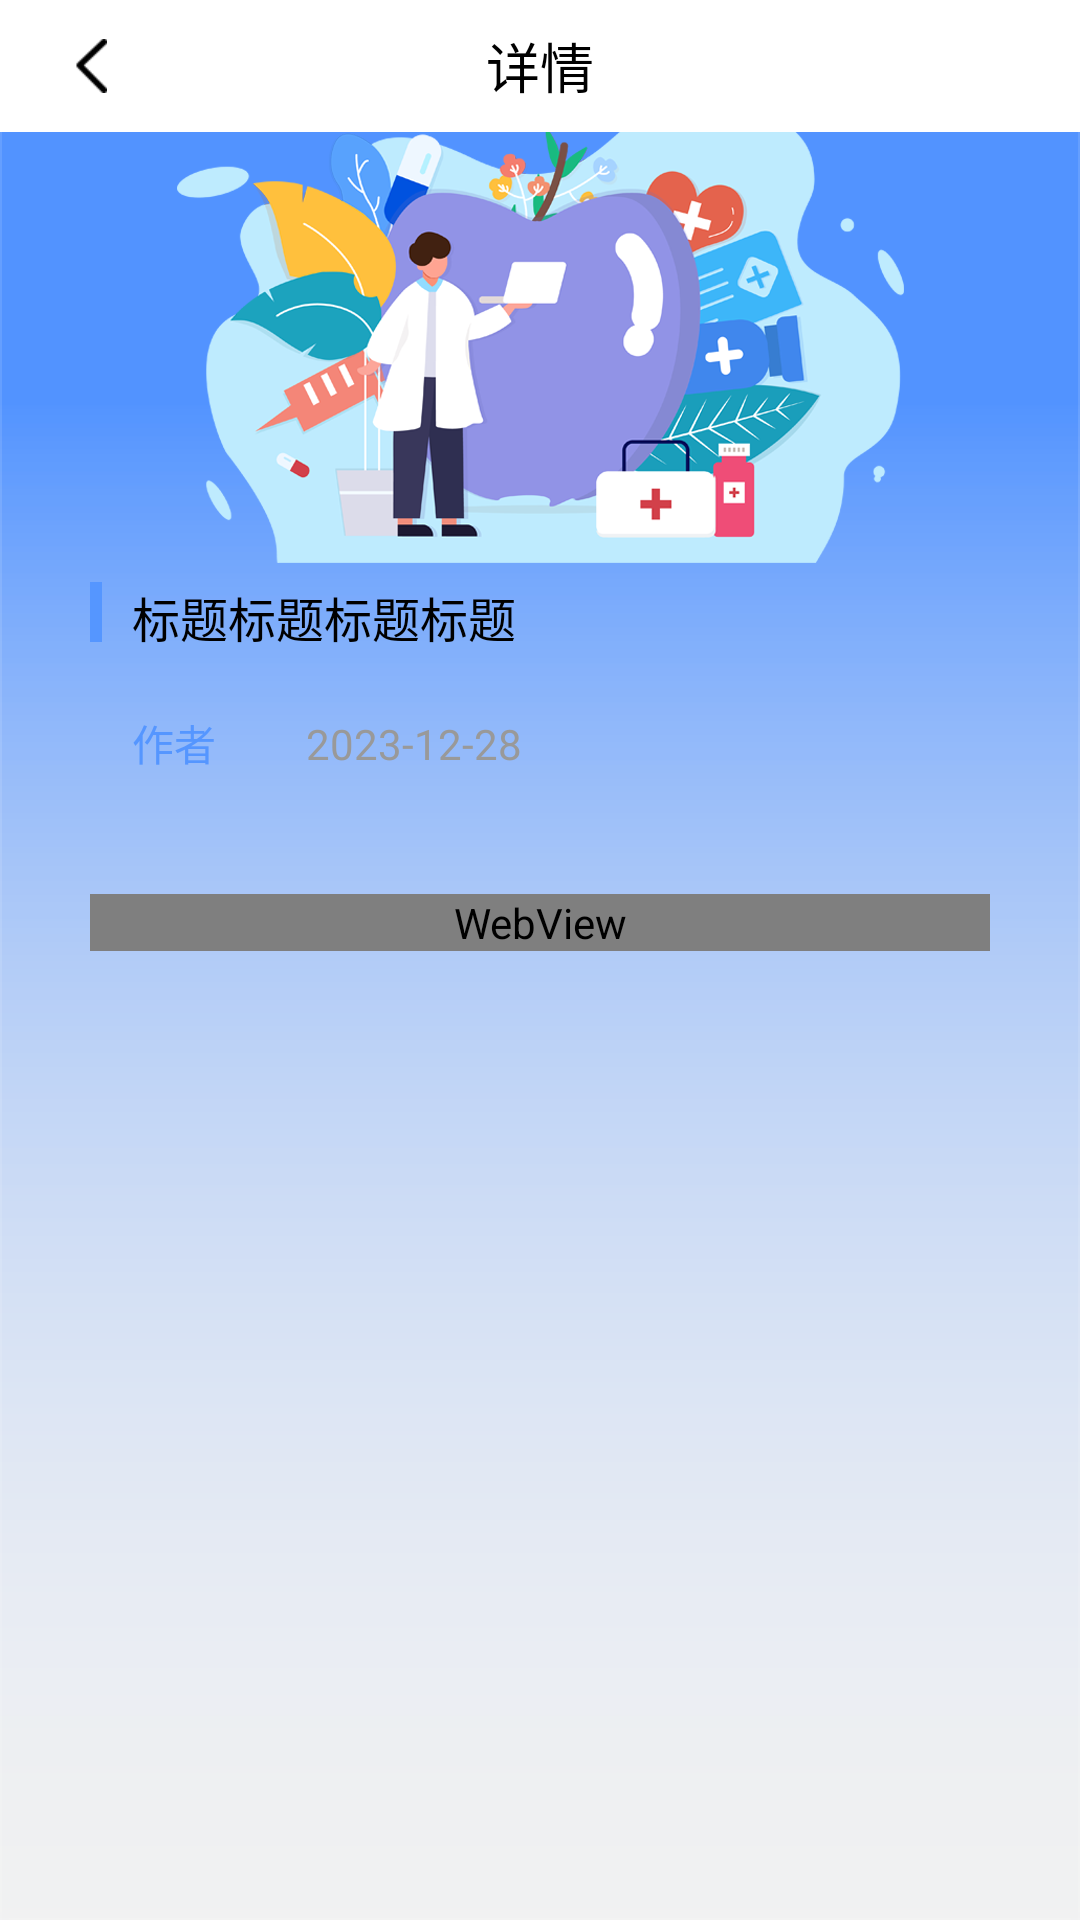

Locate icon controls on the screen. Image size 1080×1920, boxes as bbox=(x1, y1, x2, y2).
right return iv: bbox=(76, 39, 107, 93)
